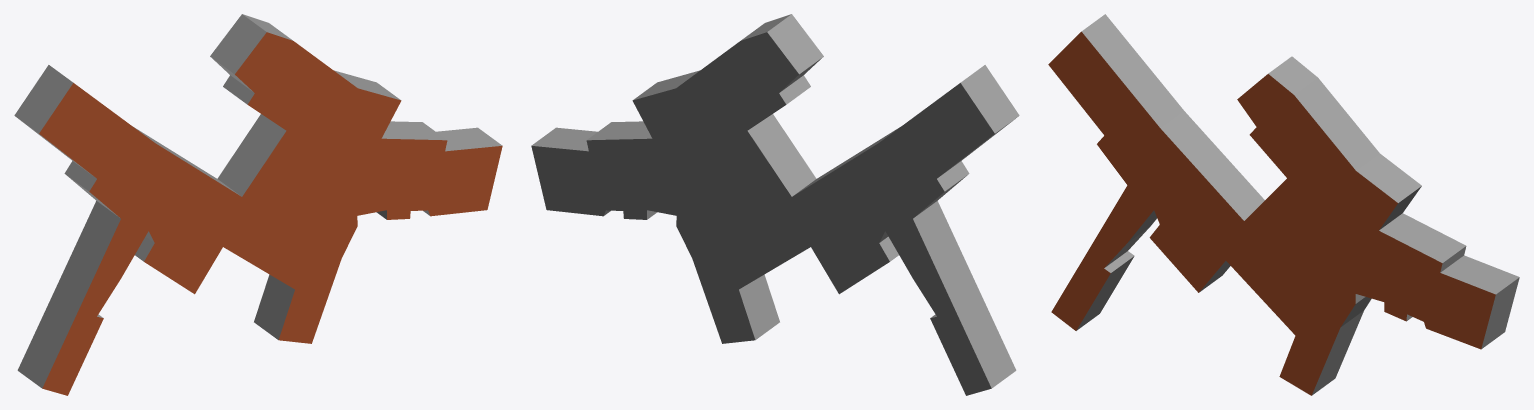
The model's file is construction_2561_assumed_A_Casa_h6m.obj.
The picture shows the model from 3 angles, left to right: view 1: azimuth 30°, elevation 25°; view 2: azimuth 150°, elevation 25°; view 3: azimuth 330°, elevation 25°; orthographic projection. The views are drawn at different scales.
Parts seen in each view (by area): view 1: construction_2561_assumed_A_Casa; view 2: construction_2561_assumed_A_Casa; view 3: construction_2561_assumed_A_Casa.
Part boxes in pixels (left/top/right/bottom): construction_2561_assumed_A_Casa: left=14, top=14, right=502, bottom=395; construction_2561_assumed_A_Casa: left=531, top=14, right=1019, bottom=395; construction_2561_assumed_A_Casa: left=1048, top=14, right=1519, bottom=395.
Bounding box in the file's own units: 64.88 × 43.16 × 6.
